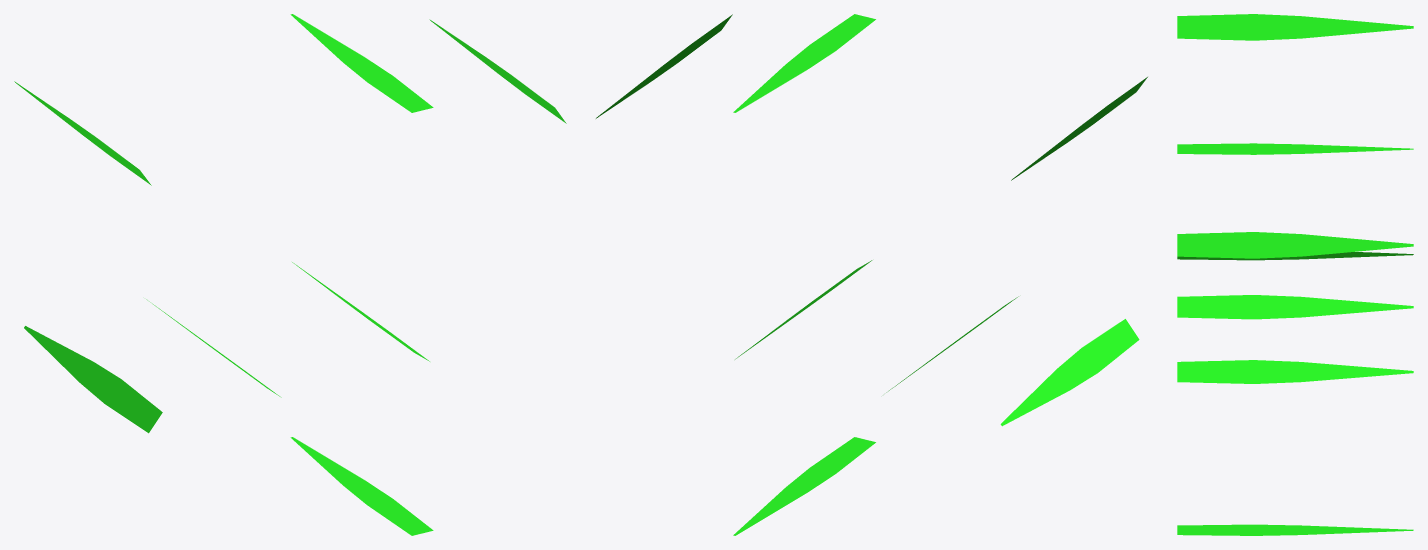
File: minhagrama.fbx
3 views of the same model, side by side, from view 1: azimuth 30°, elevation 25°; view 2: azimuth 150°, elevation 25°; view 3: azimuth 270°, elevation 25° (orthographic). The views are drawn at different scales.
Visible parts, largest first — view 1: Plane; view 2: Plane; view 3: Plane.
Boxes of the visible parts, left/top/right/bottom form: Plane: left=14, top=14, right=566, bottom=535; Plane: left=596, top=14, right=1147, bottom=535; Plane: left=1177, top=14, right=1413, bottom=535.
Bounding box in the file's own units: 391 × 378 × 207.
